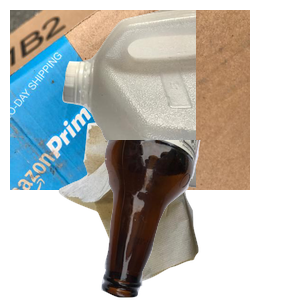cardboard: (10, 10, 250, 190)
glass: (99, 140, 300, 300)
plastic: (60, 10, 300, 190)
trash: (56, 120, 247, 300)
